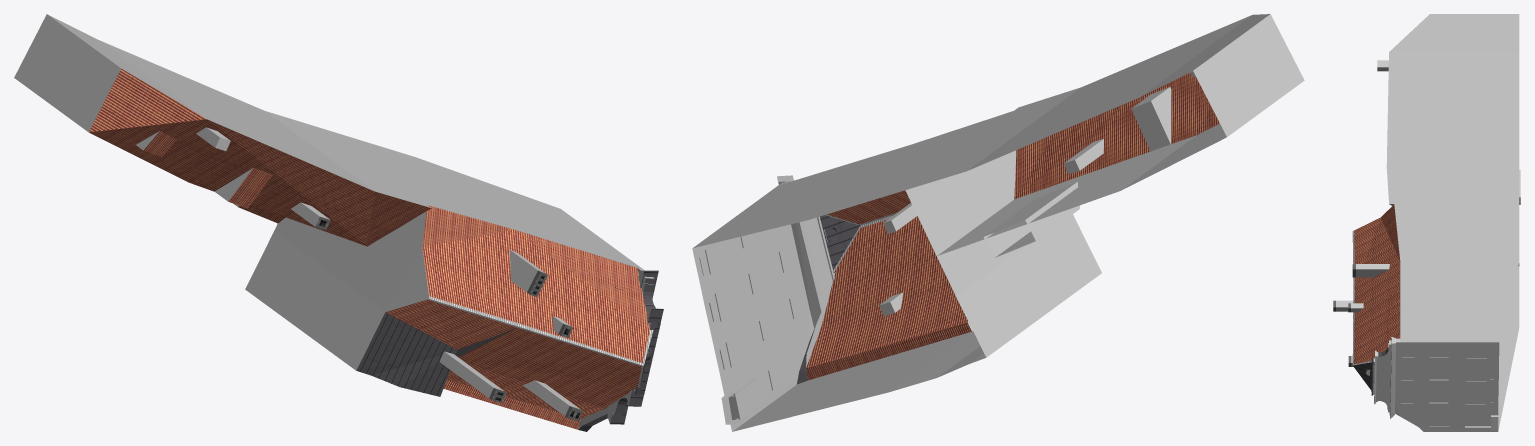
File: Pikk_39_1.obj
3 renders of one model, left to right at view 1: azimuth 30°, elevation 25°; view 2: azimuth 150°, elevation 25°; view 3: azimuth 270°, elevation 25°, orthographic. The views are drawn at different scales.
Visible parts, largest first — view 1: Pikk_39_1; view 2: Pikk_39_1; view 3: Pikk_39_1.
Part boxes in pixels (bbox=[...]): Pikk_39_1: bbox=[14, 14, 663, 431]; Pikk_39_1: bbox=[692, 14, 1304, 431]; Pikk_39_1: bbox=[1333, 14, 1520, 431].
Size of the model in its own units: 43.84 by 36.71 by 21.98.
